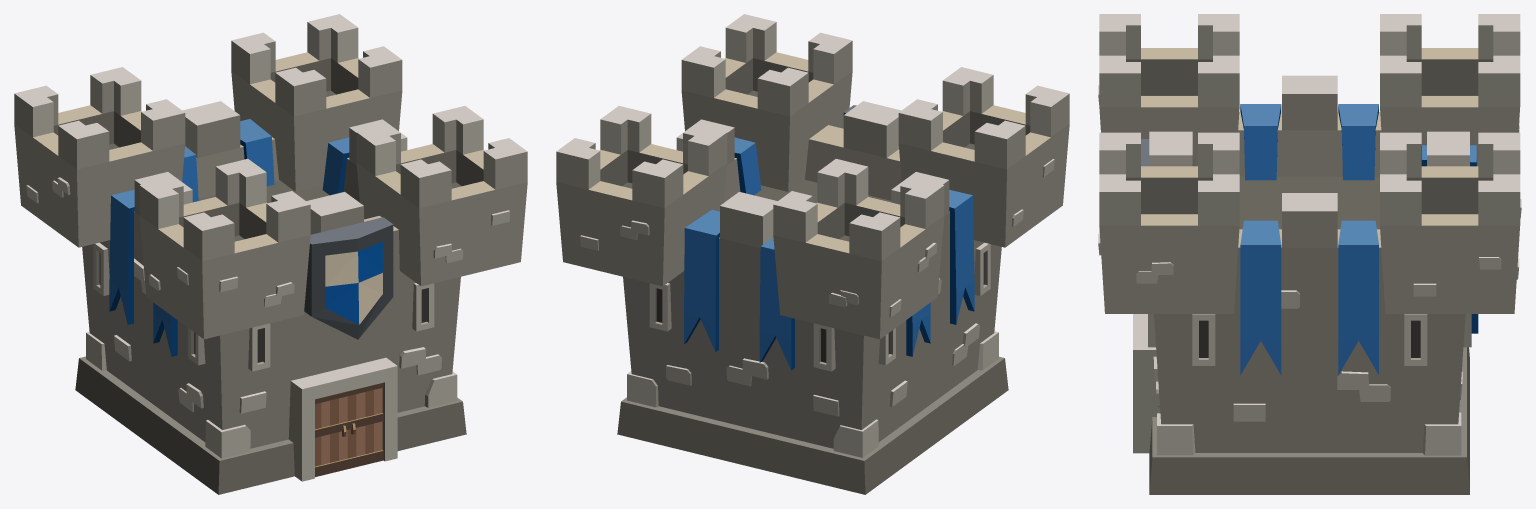
Rendered from TB_Barracks_Lvl3.FBX.
The picture shows the model from 3 angles, left to right: view 1: azimuth 30°, elevation 25°; view 2: azimuth 150°, elevation 25°; view 3: azimuth 270°, elevation 25°; orthographic projection. The views are drawn at different scales.
Parts seen in each view (by area): view 1: TB_Barracks_Lvl3, TB_Barracks_Lvl3_DoorB, TB_Barracks_Lvl3_DoorA; view 2: TB_Barracks_Lvl3; view 3: TB_Barracks_Lvl3.
Boxes of the visible parts, x1=… form: TB_Barracks_Lvl3: x1=14, y1=14, x2=527, y2=494; TB_Barracks_Lvl3_DoorB: x1=347, y1=382, x2=383, y2=468; TB_Barracks_Lvl3_DoorA: x1=315, y1=391, x2=348, y2=476; TB_Barracks_Lvl3: x1=556, y1=14, x2=1069, y2=494; TB_Barracks_Lvl3: x1=1098, y1=14, x2=1521, y2=494.
Size of the model in its own units: 8.44 by 7.14 by 8.46.
